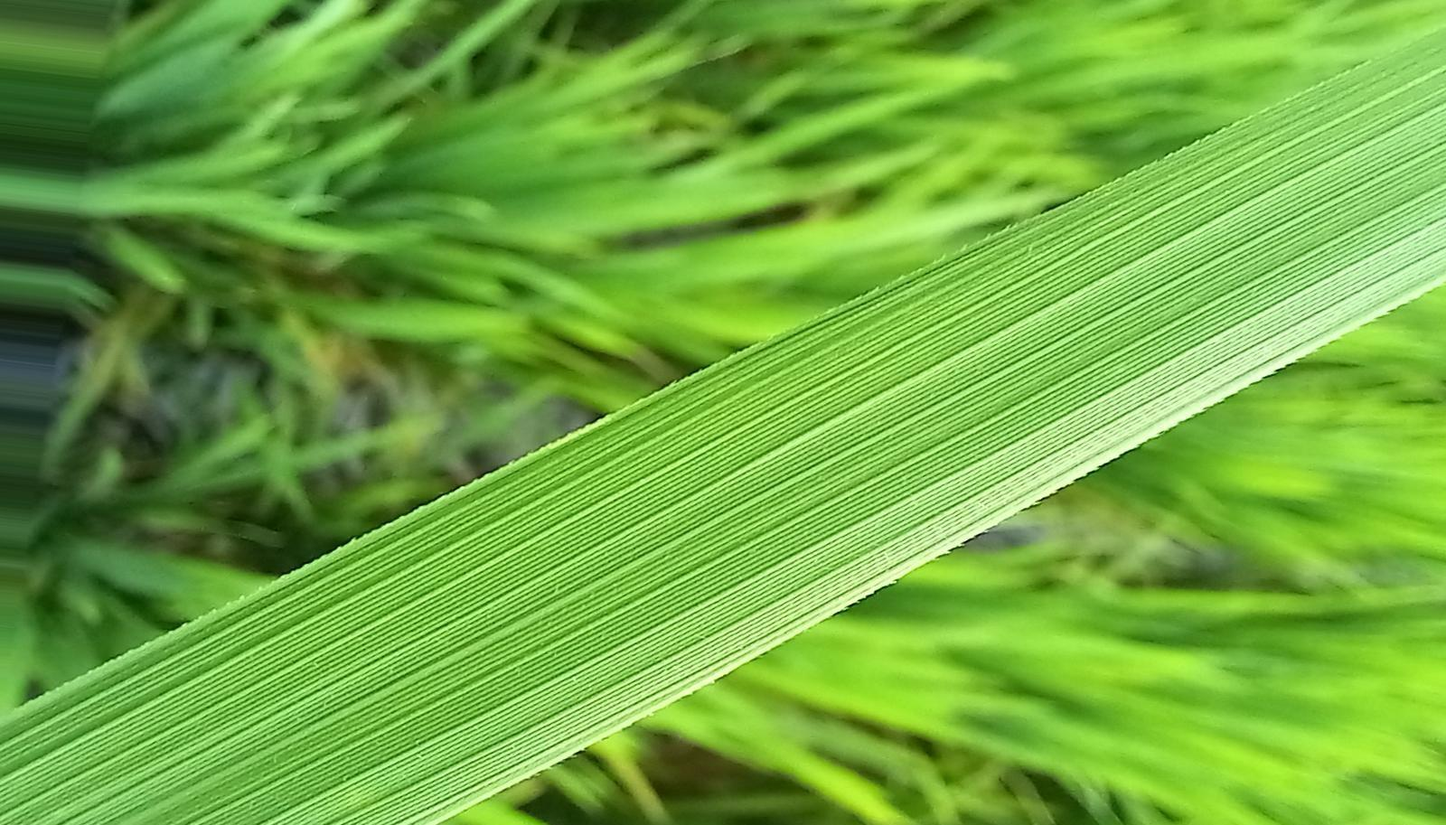Healthy: (0, 28, 1445, 824)
